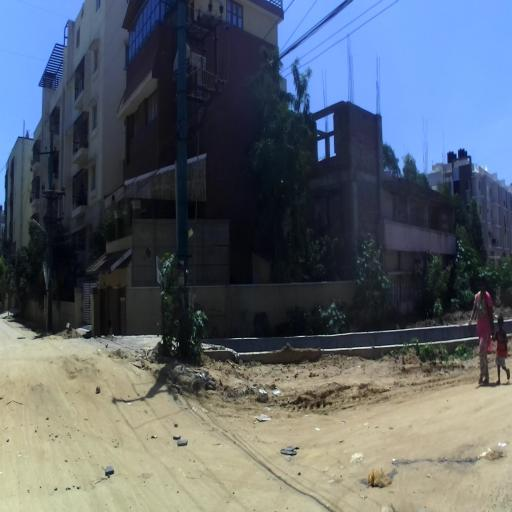street_light_0: (31, 219, 47, 233)
